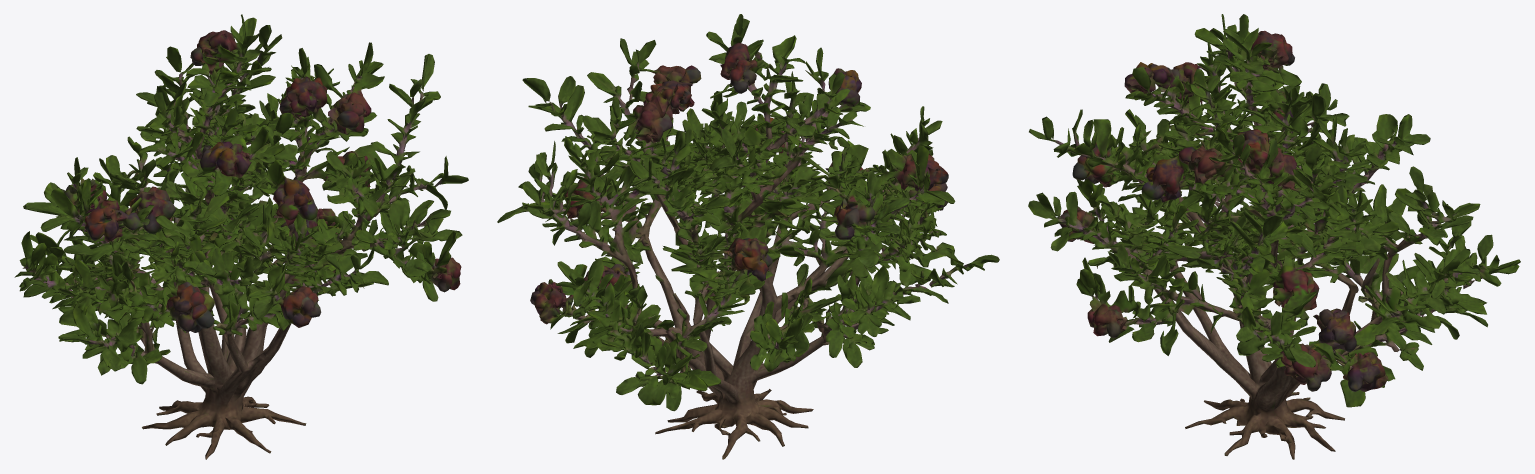
The model's file is berry-bush-model.glb.
3 views of the same model, side by side, from view 1: azimuth 30°, elevation 25°; view 2: azimuth 150°, elevation 25°; view 3: azimuth 270°, elevation 25° (orthographic). The views are drawn at different scales.
Visible parts, largest first — view 1: berry-bush.001; view 2: berry-bush.001; view 3: berry-bush.001.
Boxes of the visible parts, x1,y1,x2,y2 form: berry-bush.001: (14,14,468,459); berry-bush.001: (497,14,999,459); berry-bush.001: (1028,14,1520,459).
Bounding box in the file's own units: 1.33 × 1.2 × 1.27.
1 material, 1 textured.
